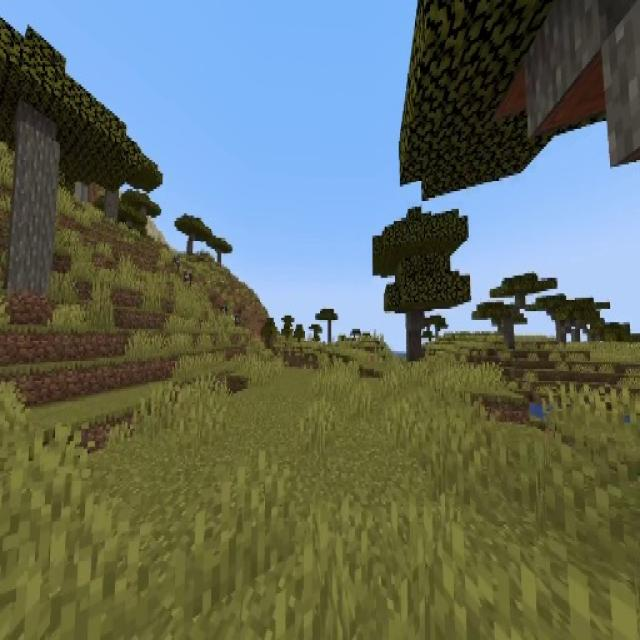acacia: (0, 17, 124, 305), (372, 208, 469, 364), (475, 270, 555, 346), (177, 216, 208, 256), (208, 236, 232, 265)
acacia_log: (11, 107, 60, 308), (407, 315, 422, 364)
